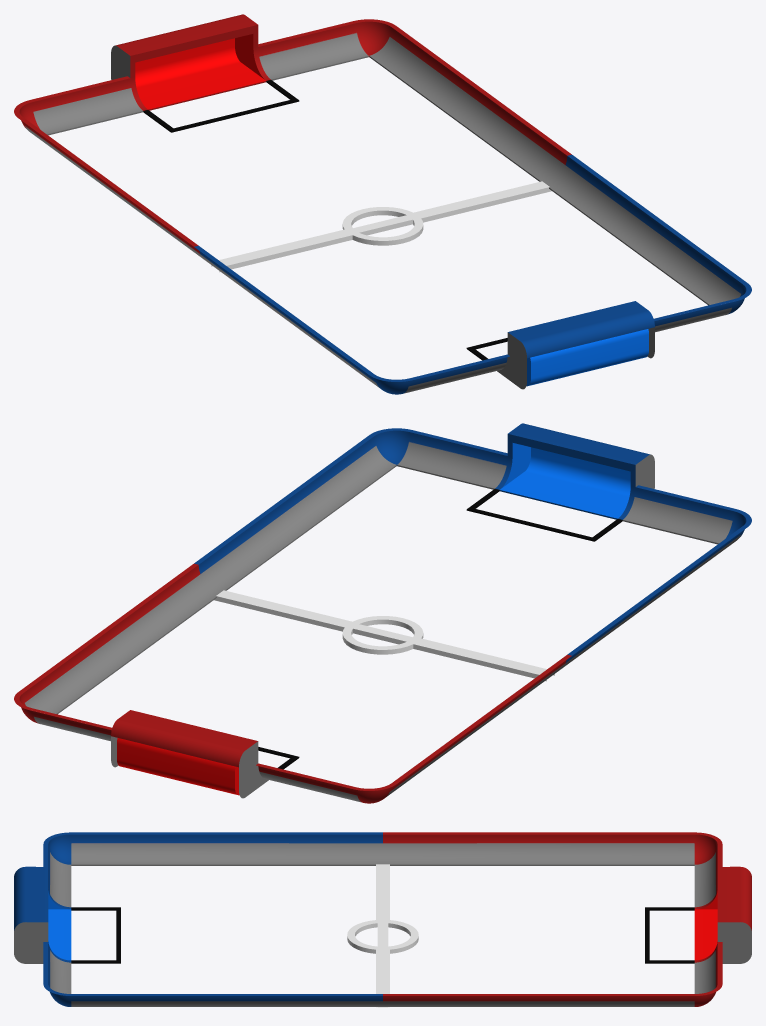
Rendered from Map_Walls.fbx.
3 renders of one model, top to bottom at view 1: azimuth 30°, elevation 25°; view 2: azimuth 150°, elevation 25°; view 3: azimuth 270°, elevation 25°, orthographic. The views are drawn at different scales.
Visible parts, largest first — view 1: MAP_Walls; view 2: MAP_Walls; view 3: MAP_Walls.
Part boxes in pixels (x1,y1,x2,y2): MAP_Walls: [14, 14, 751, 394]; MAP_Walls: [14, 423, 751, 803]; MAP_Walls: [14, 832, 751, 1007].
Bounding box in the file's own units: 4418 × 561 × 8418.
1 material, 1 textured.
